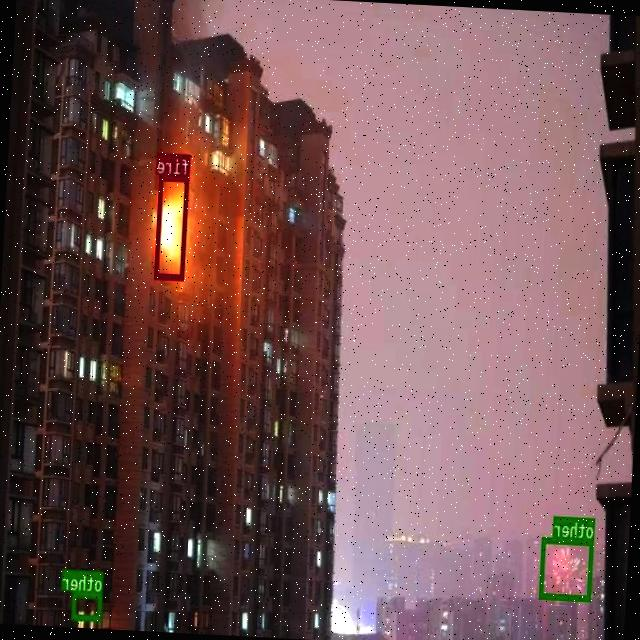fire: (156, 174, 189, 279)
